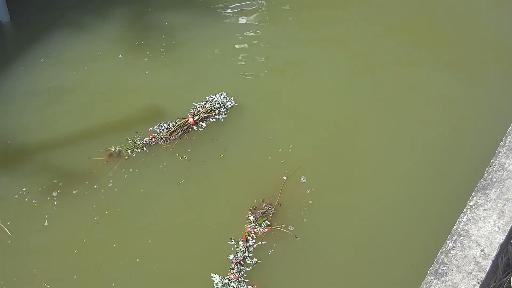twig: (206, 159, 312, 288), (84, 87, 242, 171)
